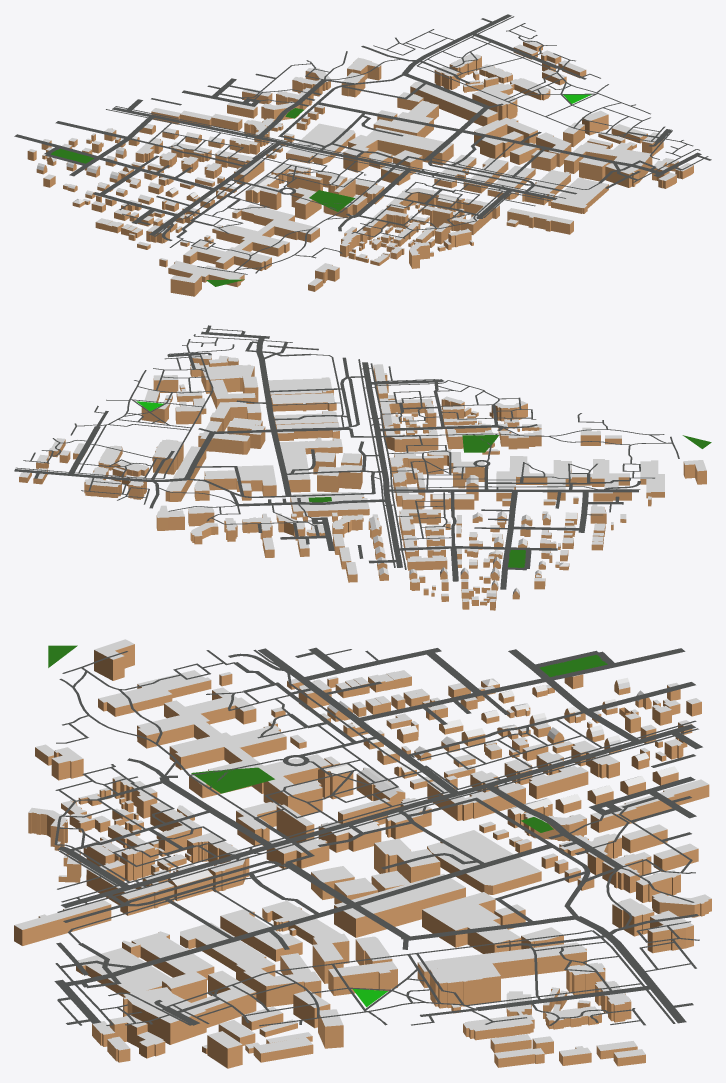
The model's file is rise_export_no_ground.fbx.
The picture shows the model from 3 angles, top to bottom: view 1: azimuth 30°, elevation 25°; view 2: azimuth 150°, elevation 25°; view 3: azimuth 270°, elevation 25°; orthographic projection. The views are drawn at different scales.
Visible parts, largest first — view 1: map_9.osm_paths_footway, map_9.osm_roads_residential, map_9.osm_roads_service, map_9.osm_buildings.093, map_9.osm_buildings.364, map_9.osm_roads_tertiary, map_9.osm_buildings.004, map_9.osm_forest, map_9.osm_buildings.024, map_9.osm_buildings.023, map_9.osm_buildings.259, map_9.osm_buildings.532 (+16 smaller); view 2: map_9.osm_paths_footway, map_9.osm_roads_residential, map_9.osm_roads_service, map_9.osm_buildings.093, map_9.osm_roads_tertiary, map_9.osm_buildings.364, map_9.osm_forest, map_9.osm_buildings.004, map_9.osm_buildings.023, map_9.osm_buildings.024, map_9.osm_buildings.259, map_9.osm_buildings.529 (+15 smaller); view 3: map_9.osm_paths_footway, map_9.osm_roads_residential, map_9.osm_roads_service, map_9.osm_buildings.093, map_9.osm_buildings.364, map_9.osm_roads_tertiary, map_9.osm_buildings.004, map_9.osm_forest, map_9.osm_buildings.023, map_9.osm_buildings.530, map_9.osm_buildings.024, map_9.osm_buildings.259 (+50 smaller).
Boxes of the visible parts, bbox=[...] form: map_9.osm_paths_footway: bbox=[106, 16, 708, 274]; map_9.osm_roads_residential: bbox=[14, 14, 671, 235]; map_9.osm_roads_service: bbox=[130, 18, 711, 240]; map_9.osm_buildings.093: bbox=[183, 204, 319, 263]; map_9.osm_buildings.364: bbox=[183, 211, 319, 270]; map_9.osm_roads_tertiary: bbox=[112, 107, 701, 199]; map_9.osm_buildings.004: bbox=[286, 123, 354, 158]; map_9.osm_forest: bbox=[51, 108, 355, 286]; map_9.osm_buildings.024: bbox=[551, 178, 608, 207]; map_9.osm_buildings.023: bbox=[374, 100, 438, 132]; map_9.osm_buildings.259: bbox=[367, 127, 452, 153]; map_9.osm_buildings.532: bbox=[410, 86, 498, 126]; map_9.osm_paths_footway: bbox=[15, 328, 679, 569]; map_9.osm_roads_residential: bbox=[14, 337, 638, 589]; map_9.osm_roads_service: bbox=[34, 325, 640, 558]; map_9.osm_buildings.093: bbox=[496, 456, 631, 493]; map_9.osm_roads_tertiary: bbox=[201, 331, 402, 567]; map_9.osm_buildings.364: bbox=[496, 469, 631, 501]; map_9.osm_forest: bbox=[308, 435, 711, 567]; map_9.osm_buildings.004: bbox=[290, 492, 369, 511]; map_9.osm_buildings.023: bbox=[204, 465, 276, 485]; map_9.osm_buildings.024: bbox=[268, 377, 331, 394]; map_9.osm_buildings.259: bbox=[280, 443, 310, 480]; map_9.osm_buildings.529: bbox=[317, 468, 362, 492]; map_9.osm_paths_footway: bbox=[54, 649, 699, 1026]; map_9.osm_roads_residential: bbox=[57, 647, 702, 1025]; map_9.osm_roads_service: bbox=[56, 651, 698, 1024]; map_9.osm_buildings.093: bbox=[137, 687, 330, 785]; map_9.osm_buildings.364: bbox=[137, 690, 331, 798]; map_9.osm_roads_tertiary: bbox=[54, 724, 695, 1023]; map_9.osm_buildings.004: bbox=[427, 830, 541, 885]; map_9.osm_forest: bbox=[48, 645, 607, 832]; map_9.osm_buildings.023: bbox=[422, 892, 520, 943]; map_9.osm_buildings.530: bbox=[334, 887, 465, 937]; map_9.osm_buildings.024: bbox=[78, 948, 170, 992]; map_9.osm_buildings.259: bbox=[334, 874, 465, 918].
Size of the model in its own units: 71782 by 3500 by 52331.
